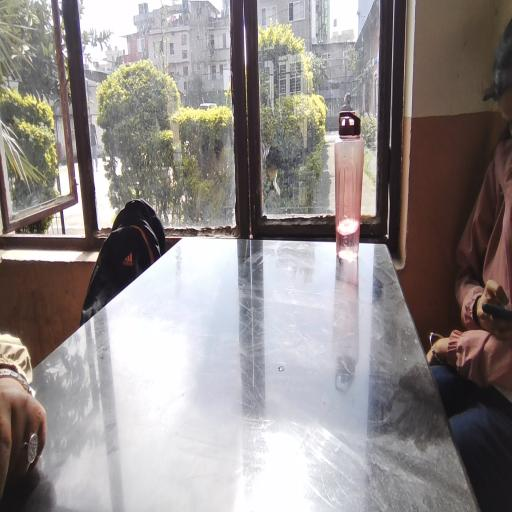Bottle: (333, 106, 374, 261)
